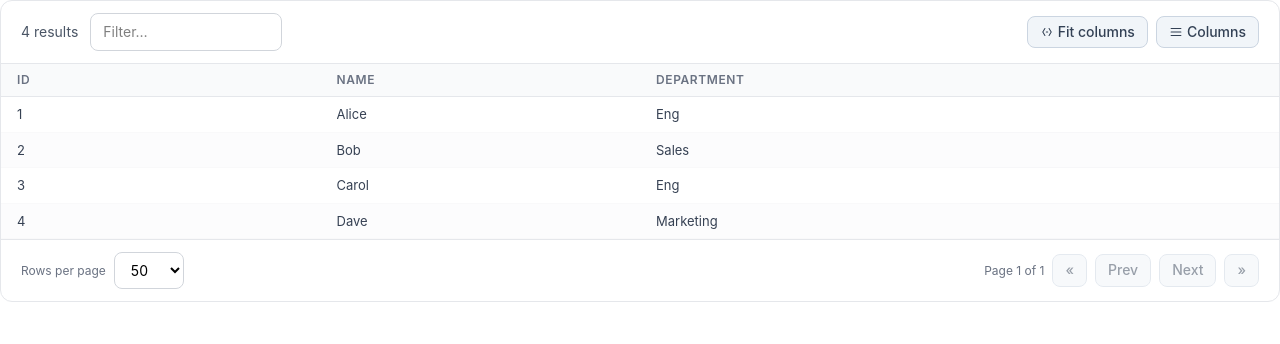
Scenario: ResultsTable.vue › shows "no match" message when filter excludes everything
Type "nonexistent" into the search field with placeholder "Filter…" at coordinates (186, 32), box [90,13,282,51]
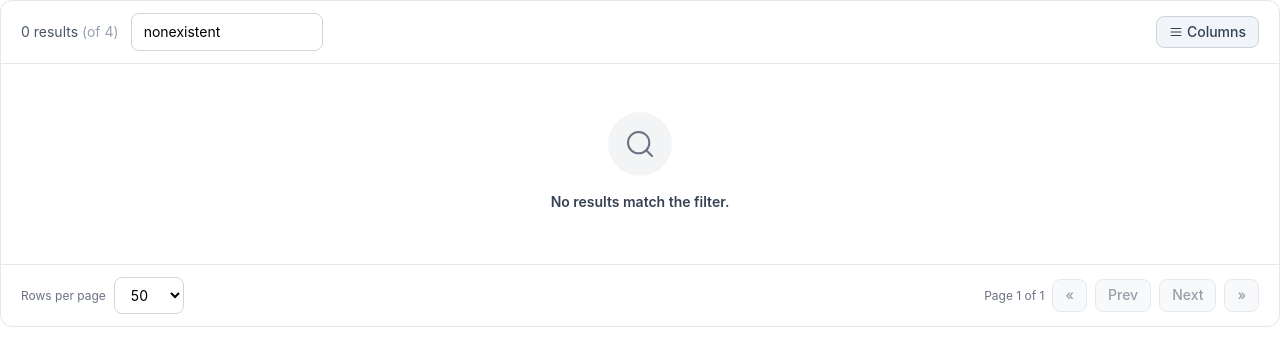
Now the text "No results match the filter." is shown, box [551,192,729,212]
